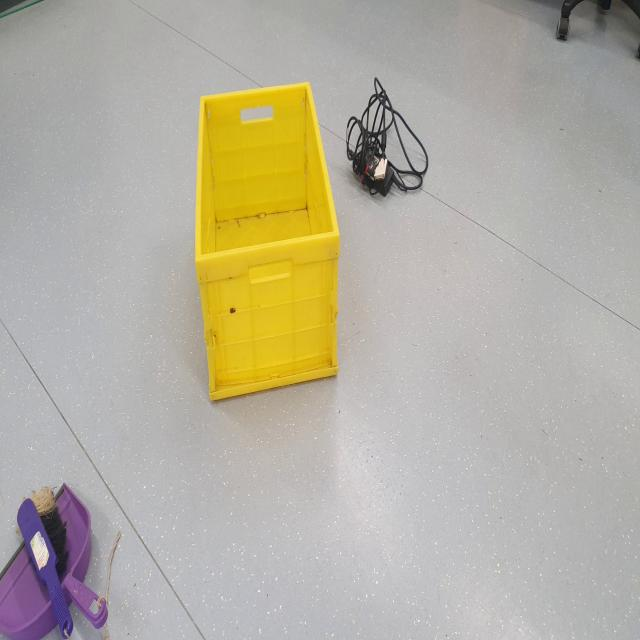box: (189, 68, 347, 424)
